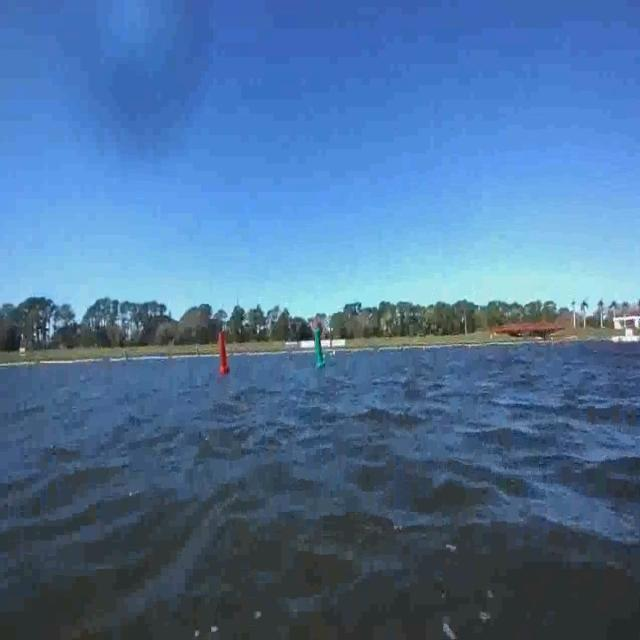green-column-buoy: (313, 316, 331, 378)
red-column-buoy: (207, 325, 231, 386)
